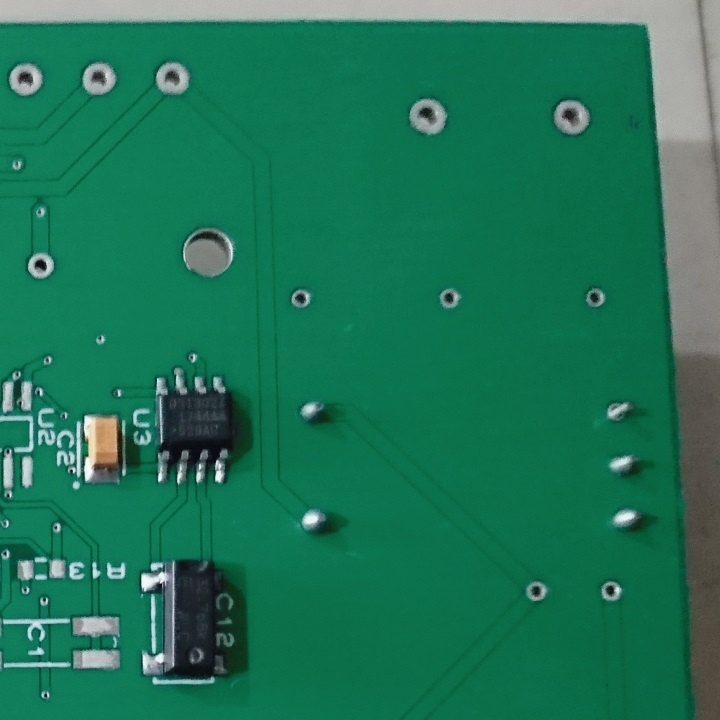F: (404, 95, 451, 138), (150, 57, 192, 100), (550, 95, 592, 138), (4, 60, 45, 100), (79, 59, 120, 96), (23, 250, 59, 280), (604, 398, 636, 426), (521, 578, 553, 605), (584, 283, 610, 312), (437, 285, 465, 311), (598, 578, 625, 604), (287, 286, 313, 312)
